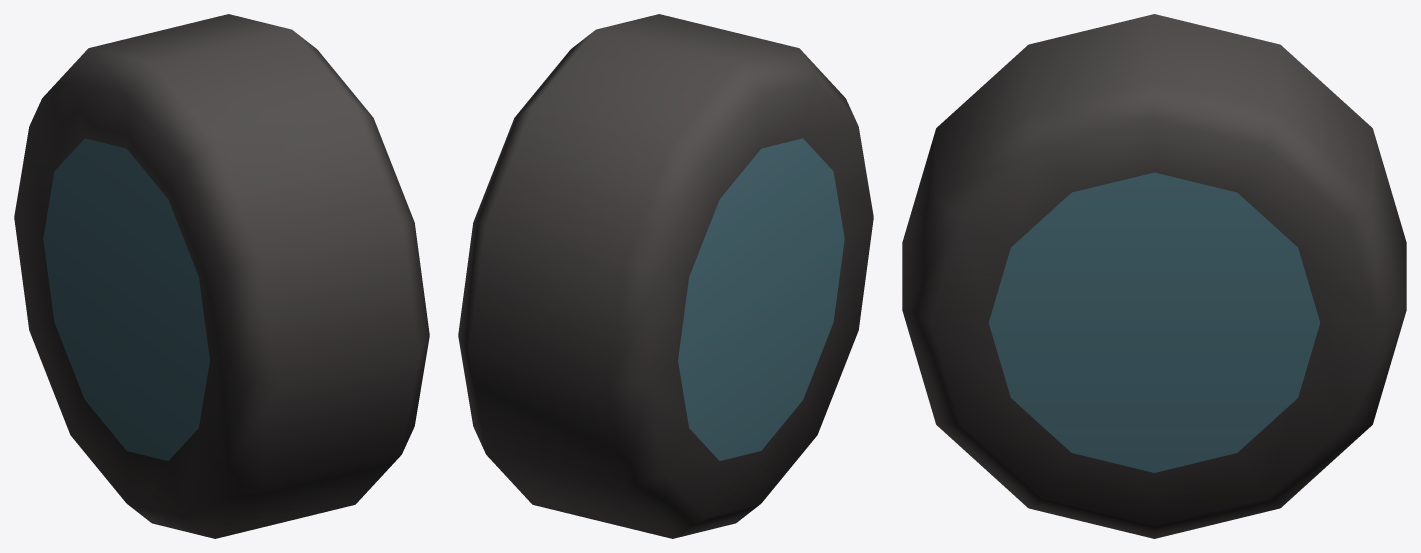
The model's file is Wheel_01.fbx.
3 renders of one model, left to right at view 1: azimuth 30°, elevation 25°; view 2: azimuth 150°, elevation 25°; view 3: azimuth 270°, elevation 25°, orthographic.
Visible parts, largest first — view 1: Wheel_01; view 2: Wheel_01; view 3: Wheel_01.
Boxes of the visible parts, x1=… form: Wheel_01: x1=14, y1=14, x2=429, y2=538; Wheel_01: x1=458, y1=14, x2=873, y2=538; Wheel_01: x1=902, y1=14, x2=1406, y2=538.
Size of the model in its own units: 5.11 by 11.76 by 11.76.
